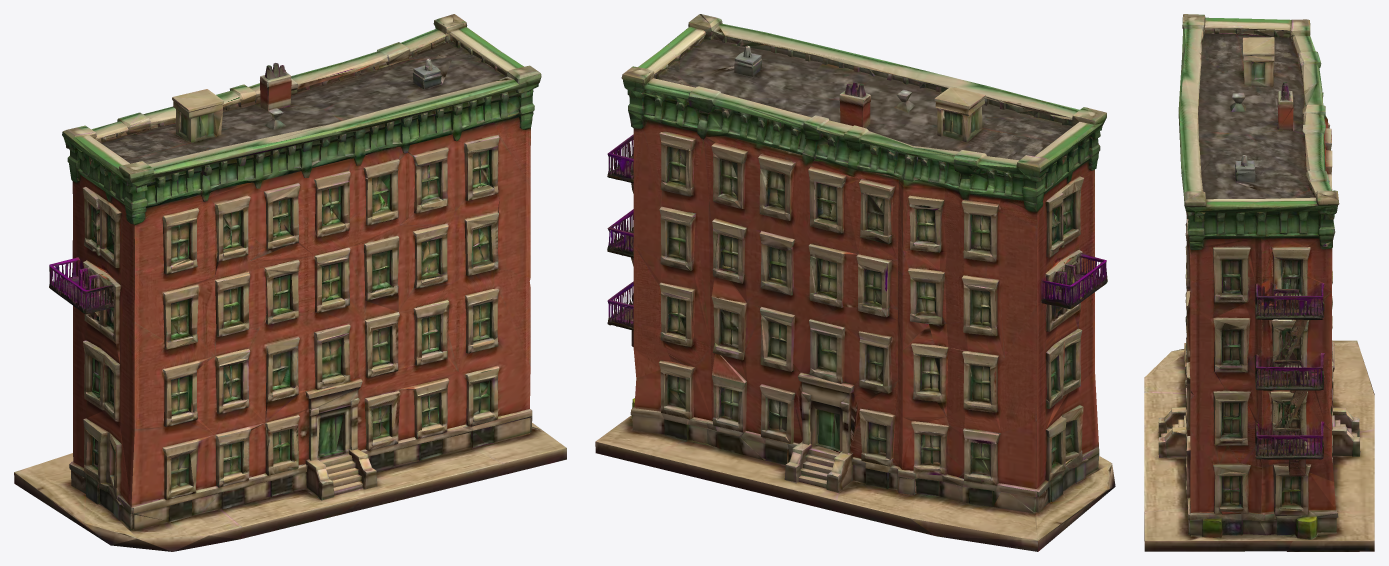
File: town_flats.glb
3 views of the same model, side by side, from view 1: azimuth 30°, elevation 25°; view 2: azimuth 150°, elevation 25°; view 3: azimuth 270°, elevation 25° (orthographic). The views are drawn at different scales.
Parts seen in each view (by area): view 1: normalize; view 2: normalize; view 3: normalize.
Part boxes in pixels (box(x1,y1,x2,y2)): normalize: box(14, 14, 566, 551); normalize: box(595, 14, 1115, 551); normalize: box(1144, 14, 1374, 551).
Size of the model in its own units: 1 by 0.8268 by 0.4679.
1 material, 1 textured.
